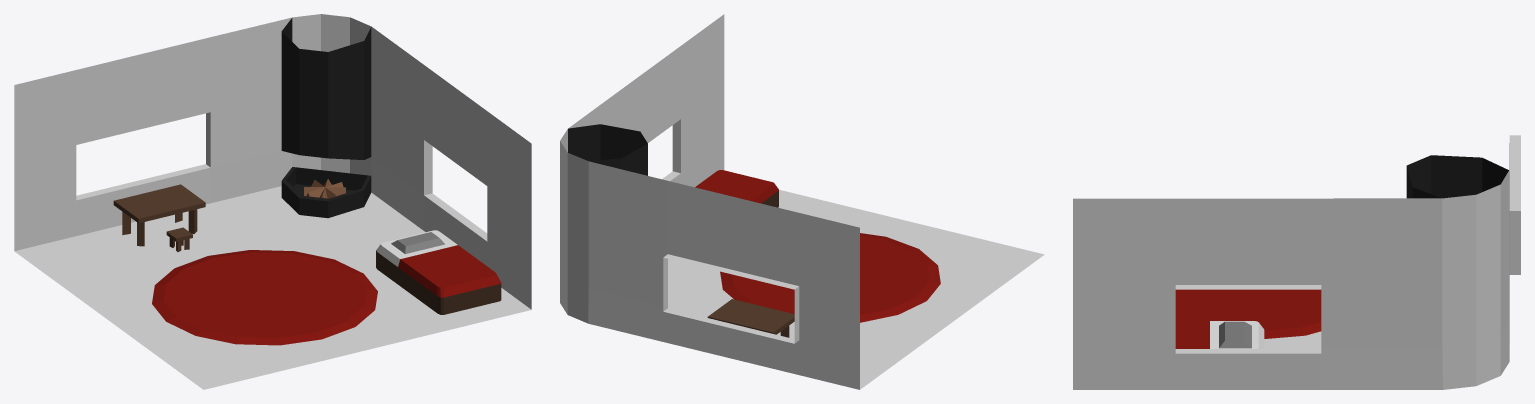
The model's file is room.gltf.
3 renders of one model, left to right at view 1: azimuth 30°, elevation 25°; view 2: azimuth 150°, elevation 25°; view 3: azimuth 270°, elevation 25°, orthographic. The views are drawn at different scales.
Parts seen in each view (by area): view 1: Room; view 2: Room; view 3: Room.
Part boxes in pixels (x1,y1,x2,y2): Room: (14, 14, 531, 389); Room: (560, 14, 1044, 389); Room: (1073, 135, 1520, 389).
Size of the model in its own units: 10.03 by 4.73 by 10.03.
